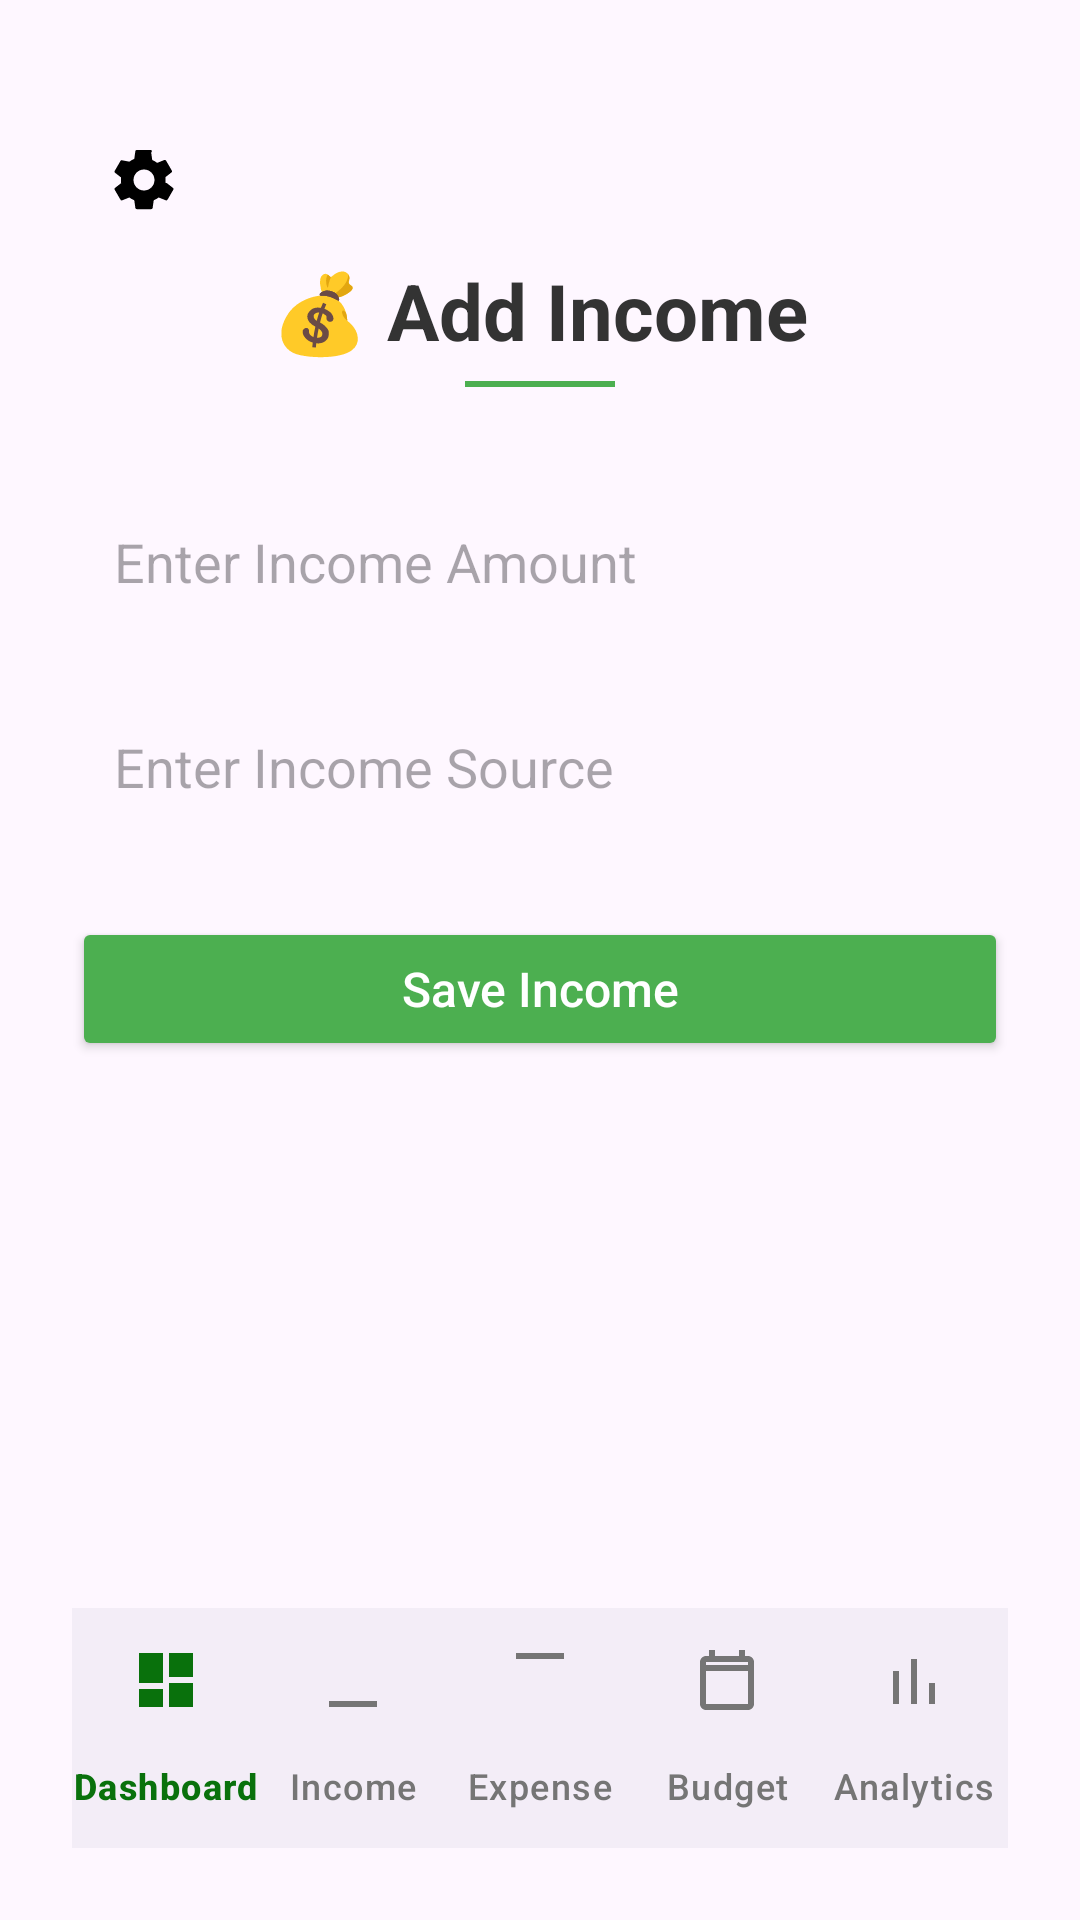

Screen size 1080x1920. Icon name, then its box in pixels as bbox=(x1, y1, x2, y2):
Setting: bbox=(114, 150, 174, 210)
